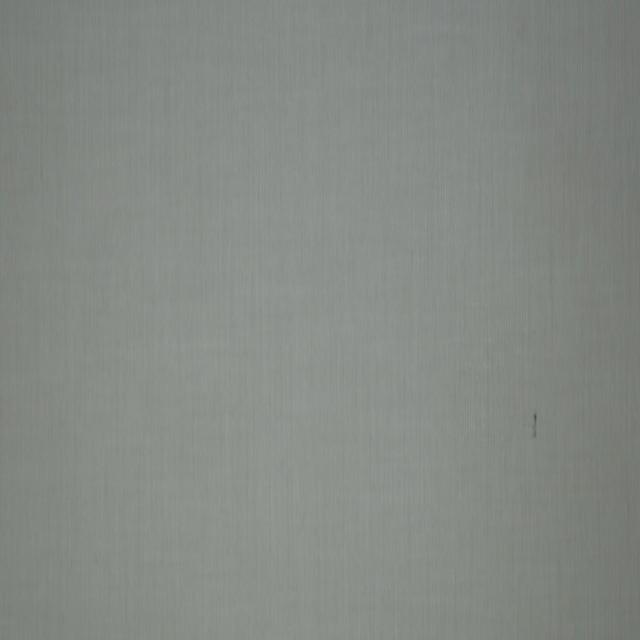dirty: (532, 410, 538, 442)
